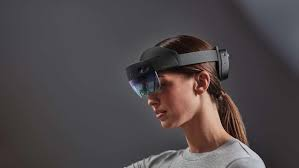hololens: (123, 45, 230, 97)
